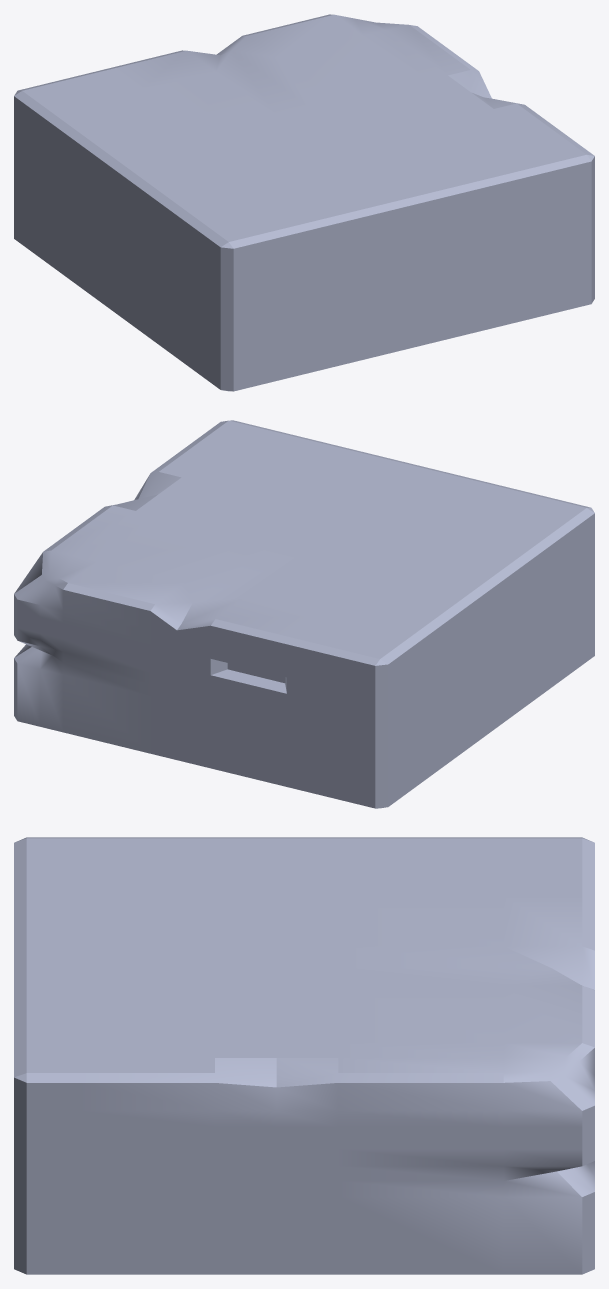
The model's file is Stone_7.fbx.
3 views of the same model, one above another, from view 1: azimuth 30°, elevation 25°; view 2: azimuth 150°, elevation 25°; view 3: azimuth 270°, elevation 25° (orthographic). The views are drawn at different scales.
Parts seen in each view (by area): view 1: Stone-_7; view 2: Stone-_7; view 3: Stone-_7.
Boxes of the visible parts, left/top/right/bottom form: Stone-_7: left=14, top=14, right=594, bottom=391; Stone-_7: left=14, top=420, right=594, bottom=808; Stone-_7: left=14, top=837, right=594, bottom=1274.
Bounding box in the file's own units: 102 × 38.73 × 102.
